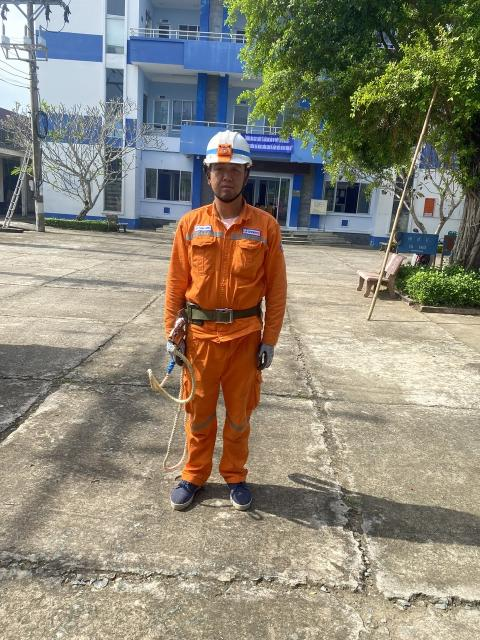gloves: (251, 341, 300, 380), (167, 328, 208, 370)
harness: (180, 304, 268, 326)
helmet: (202, 126, 268, 184)
shoes: (155, 465, 203, 513), (217, 474, 259, 522)
